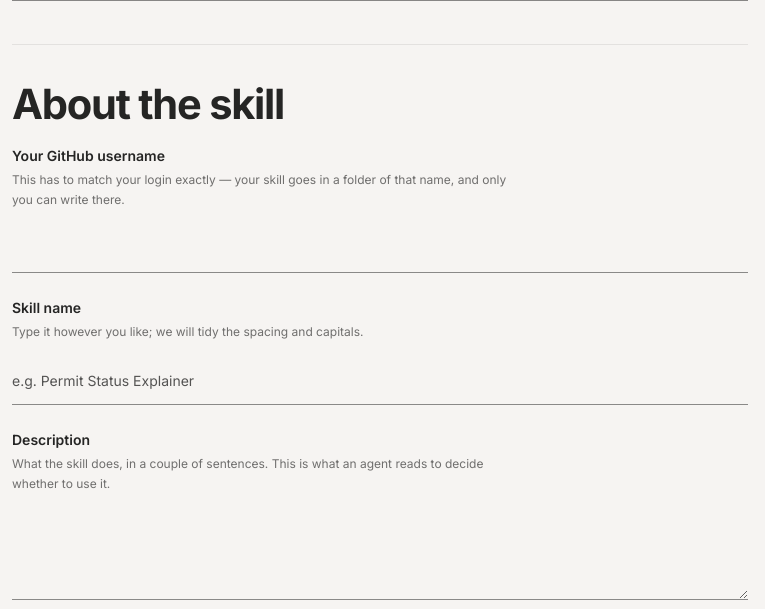
Test: Start over › clears the form and the saved draft, and stays cleared
The width and height of the screenshot is (765, 609).
(page scrolled)
Type "cityofx" into the field labelled "Your GitHub username". click: (380, 249)
box: [12,226,748,273]
(page scrolled)
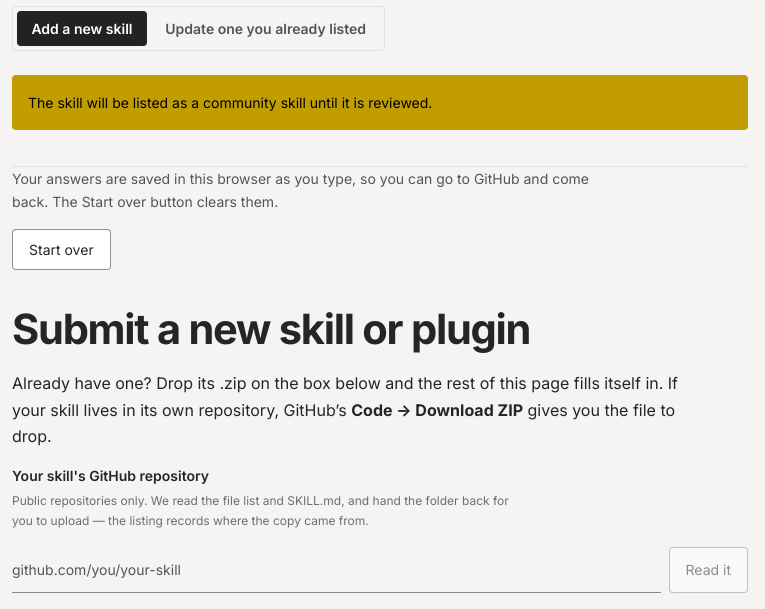
Click the button with test id "start-over". click: (61, 250)
box: [12,229,111,270]
(page scrolled)
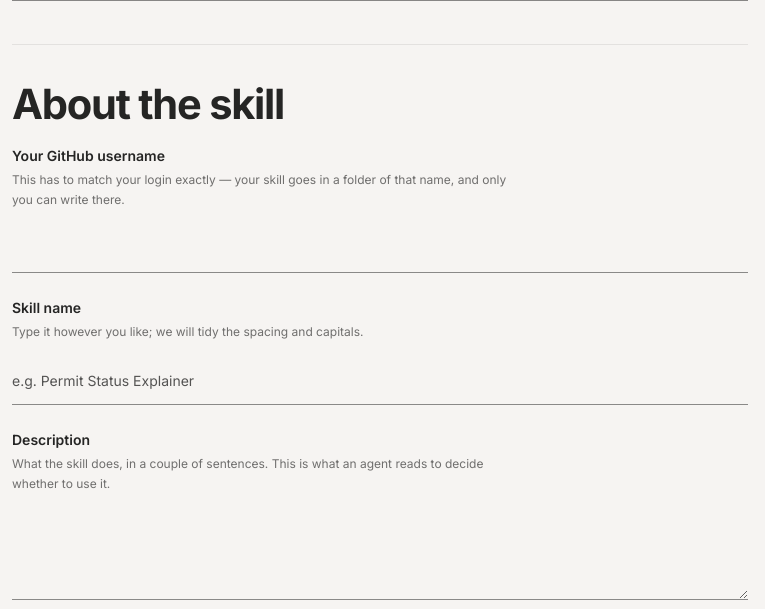
Expected: the field labelled "Your GitHub username" is empty, [12,226,748,273]
Expected: the element with test id "draft-bar" is gone
